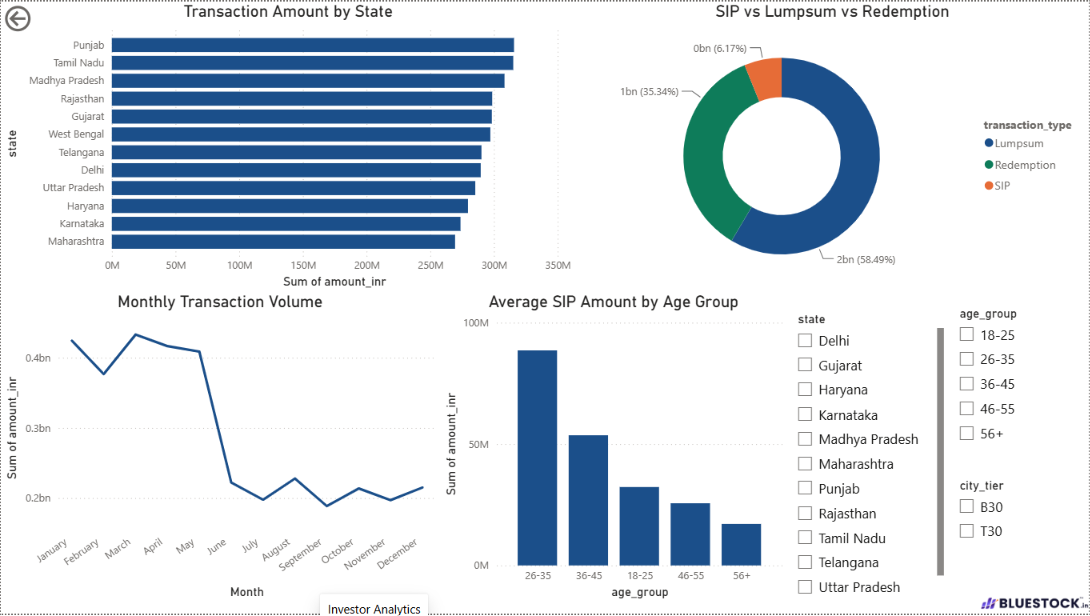

This screenshot's page, from the dashboard's own definition file:
{"tool":"powerbi","page":{"name":"Investor Analytics","canvas":[1280,720],"ordinal":2},"visuals":[{"type":"clusteredBarChart","title":"Transaction Amount by State","fields":{"Category":["08_investor_transactions_cleaned.state"],"Y":["Sum(08_investor_transactions_cleaned.amount_inr)"]},"box":[0,0,676.2,342.5],"z":0},{"type":"donutChart","title":"SIP vs Lumpsum vs Redemption","fields":{"Category":["08_investor_transactions_cleaned.transaction_type"],"Y":["Sum(08_investor_transactions_cleaned.amount_inr)"]},"box":[676.2,0,603.8,342.5],"z":1},{"type":"lineChart","title":"Monthly Transaction Volume","fields":{"Category":["08_investor_transactions_cleaned.transaction_date.Variation.Date Hierarchy.Month"],"Y":["Sum(08_investor_transactions_cleaned.amount_inr)"]},"box":[0,342.5,516.2,365],"z":2},{"type":"slicer","fields":{"Values":["08_investor_transactions_cleaned.state"]},"box":[925,360,190,347.5],"z":3},{"type":"slicer","fields":{"Values":["08_investor_transactions_cleaned.age_group"]},"box":[1115,352.5,165,190],"z":4},{"type":"slicer","fields":{"Values":["08_investor_transactions_cleaned.city_tier"]},"box":[1115,555,165,110],"z":5},{"type":"clusteredColumnChart","title":"Average SIP Amount by Age Group","fields":{"Category":["08_investor_transactions_cleaned.age_group"],"Y":["Sum(08_investor_transactions_cleaned.amount_inr)"]},"box":[516.2,342.5,408.8,365],"z":6},{"type":"actionButton","box":[0,0,100,40],"z":7},{"type":"image","box":[1152.9,695.7,127.1,24.3],"z":8}]}

Visuals, with their boxes in screenshot pixels (x1, y1, x2, y2), scaled from the page's 1280x720 canvas onto the 1090x616 screenshot:
"Transaction Amount by State" clusteredBarChart: detection(0, 0, 576, 293)
"SIP vs Lumpsum vs Redemption" donutChart: detection(576, 0, 1089, 293)
"Monthly Transaction Volume" lineChart: detection(0, 293, 440, 605)
slicer - 08_investor_transactions_cleaned.state: detection(788, 308, 949, 605)
slicer - 08_investor_transactions_cleaned.age_group: detection(949, 302, 1089, 464)
slicer - 08_investor_transactions_cleaned.city_tier: detection(949, 475, 1089, 569)
"Average SIP Amount by Age Group" clusteredColumnChart: detection(440, 293, 788, 605)
actionButton: detection(0, 0, 85, 34)
image: detection(982, 595, 1089, 615)
